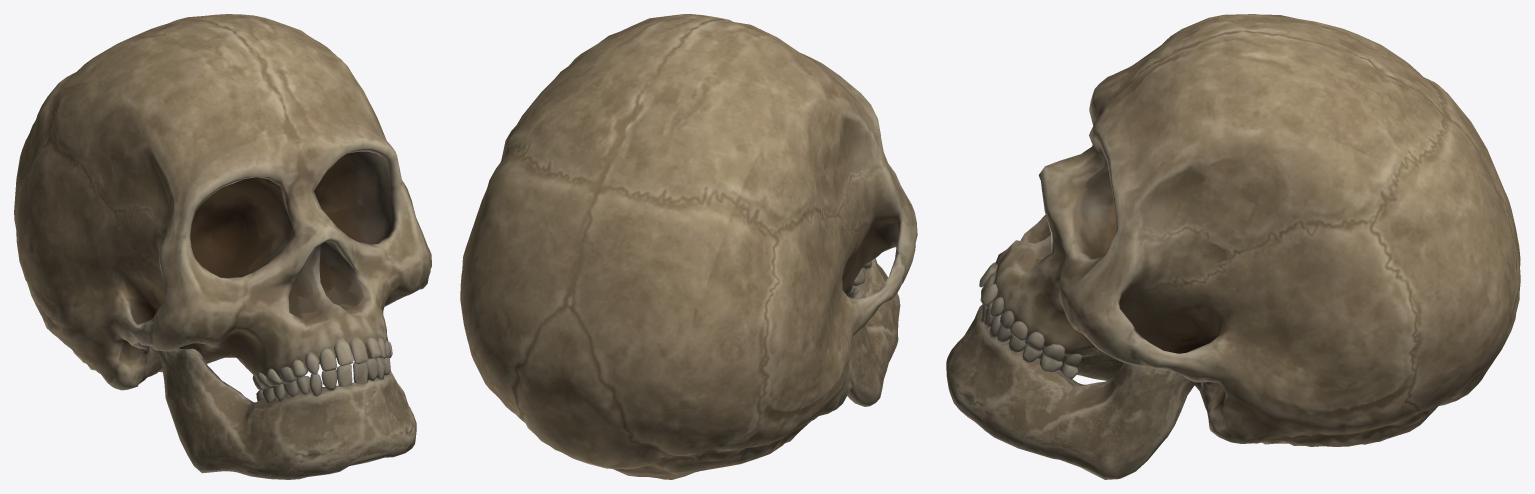
Rendered from skull.glb.
3 renders of one model, left to right at view 1: azimuth 30°, elevation 25°; view 2: azimuth 150°, elevation 25°; view 3: azimuth 270°, elevation 25°, orthographic. The views are drawn at different scales.
Visible parts, largest first — view 1: Object_2; view 2: Object_2; view 3: Object_2.
Boxes of the visible parts, x1,y1,x2,y2 form: Object_2: (14,14,431,479); Object_2: (460,14,917,479); Object_2: (946,14,1520,479).
Size of the model in its own units: 0.1695 by 0.1982 by 0.2583.
Materials: 1 (1 with a texture image).
